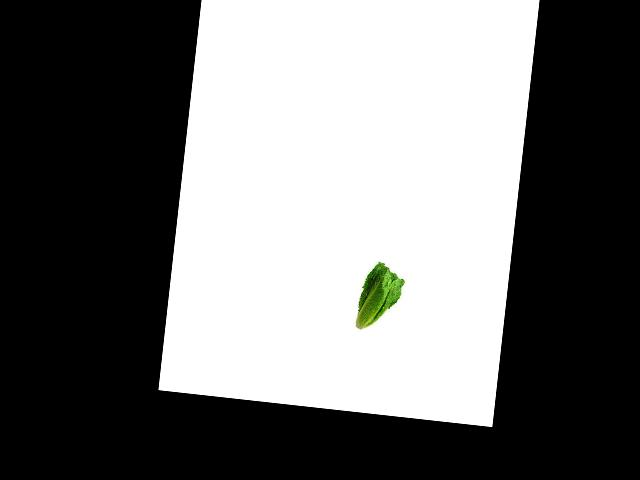lettuce: (353, 259, 406, 339)
